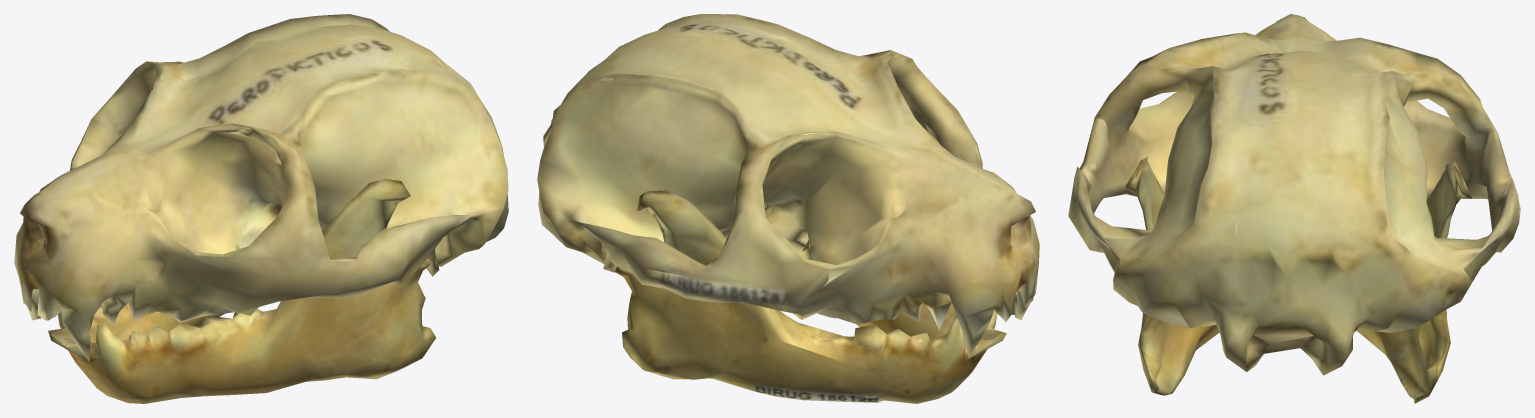
The model's file is potto.glb.
3 views of the same model, side by side, from view 1: azimuth 30°, elevation 25°; view 2: azimuth 150°, elevation 25°; view 3: azimuth 270°, elevation 25° (orthographic). The views are drawn at different scales.
Bounding box in the file's own units: 0.0601 × 0.0381 × 0.0474.
Materials: 2 (2 with a texture image).
